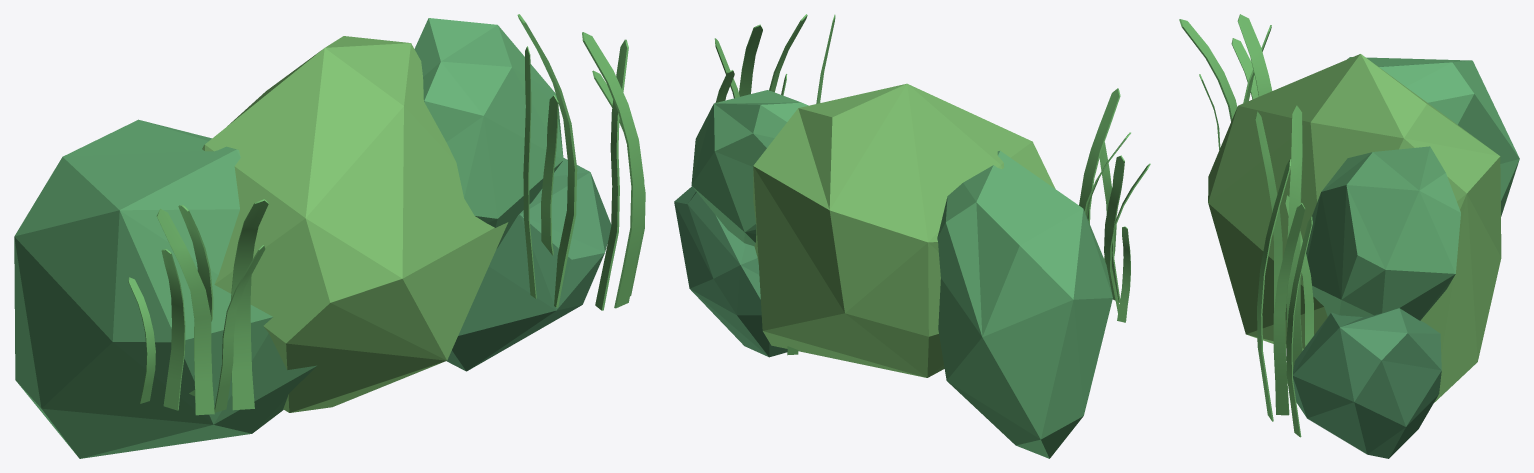
File: Park_Struik_NEW_3.fbx
The picture shows the model from 3 angles, left to right: view 1: azimuth 30°, elevation 25°; view 2: azimuth 150°, elevation 25°; view 3: azimuth 270°, elevation 25°; orthographic projection. The views are drawn at different scales.
Parts seen in each view (by area): view 1: polySurface703; view 2: polySurface703; view 3: polySurface703.
Part boxes in pixels (left/top/right/bottom): polySurface703: left=14, top=14, right=645, bottom=458; polySurface703: left=674, top=14, right=1150, bottom=458; polySurface703: left=1179, top=14, right=1519, bottom=458.
Size of the model in its own units: 6.34 by 4.54 by 3.81.
